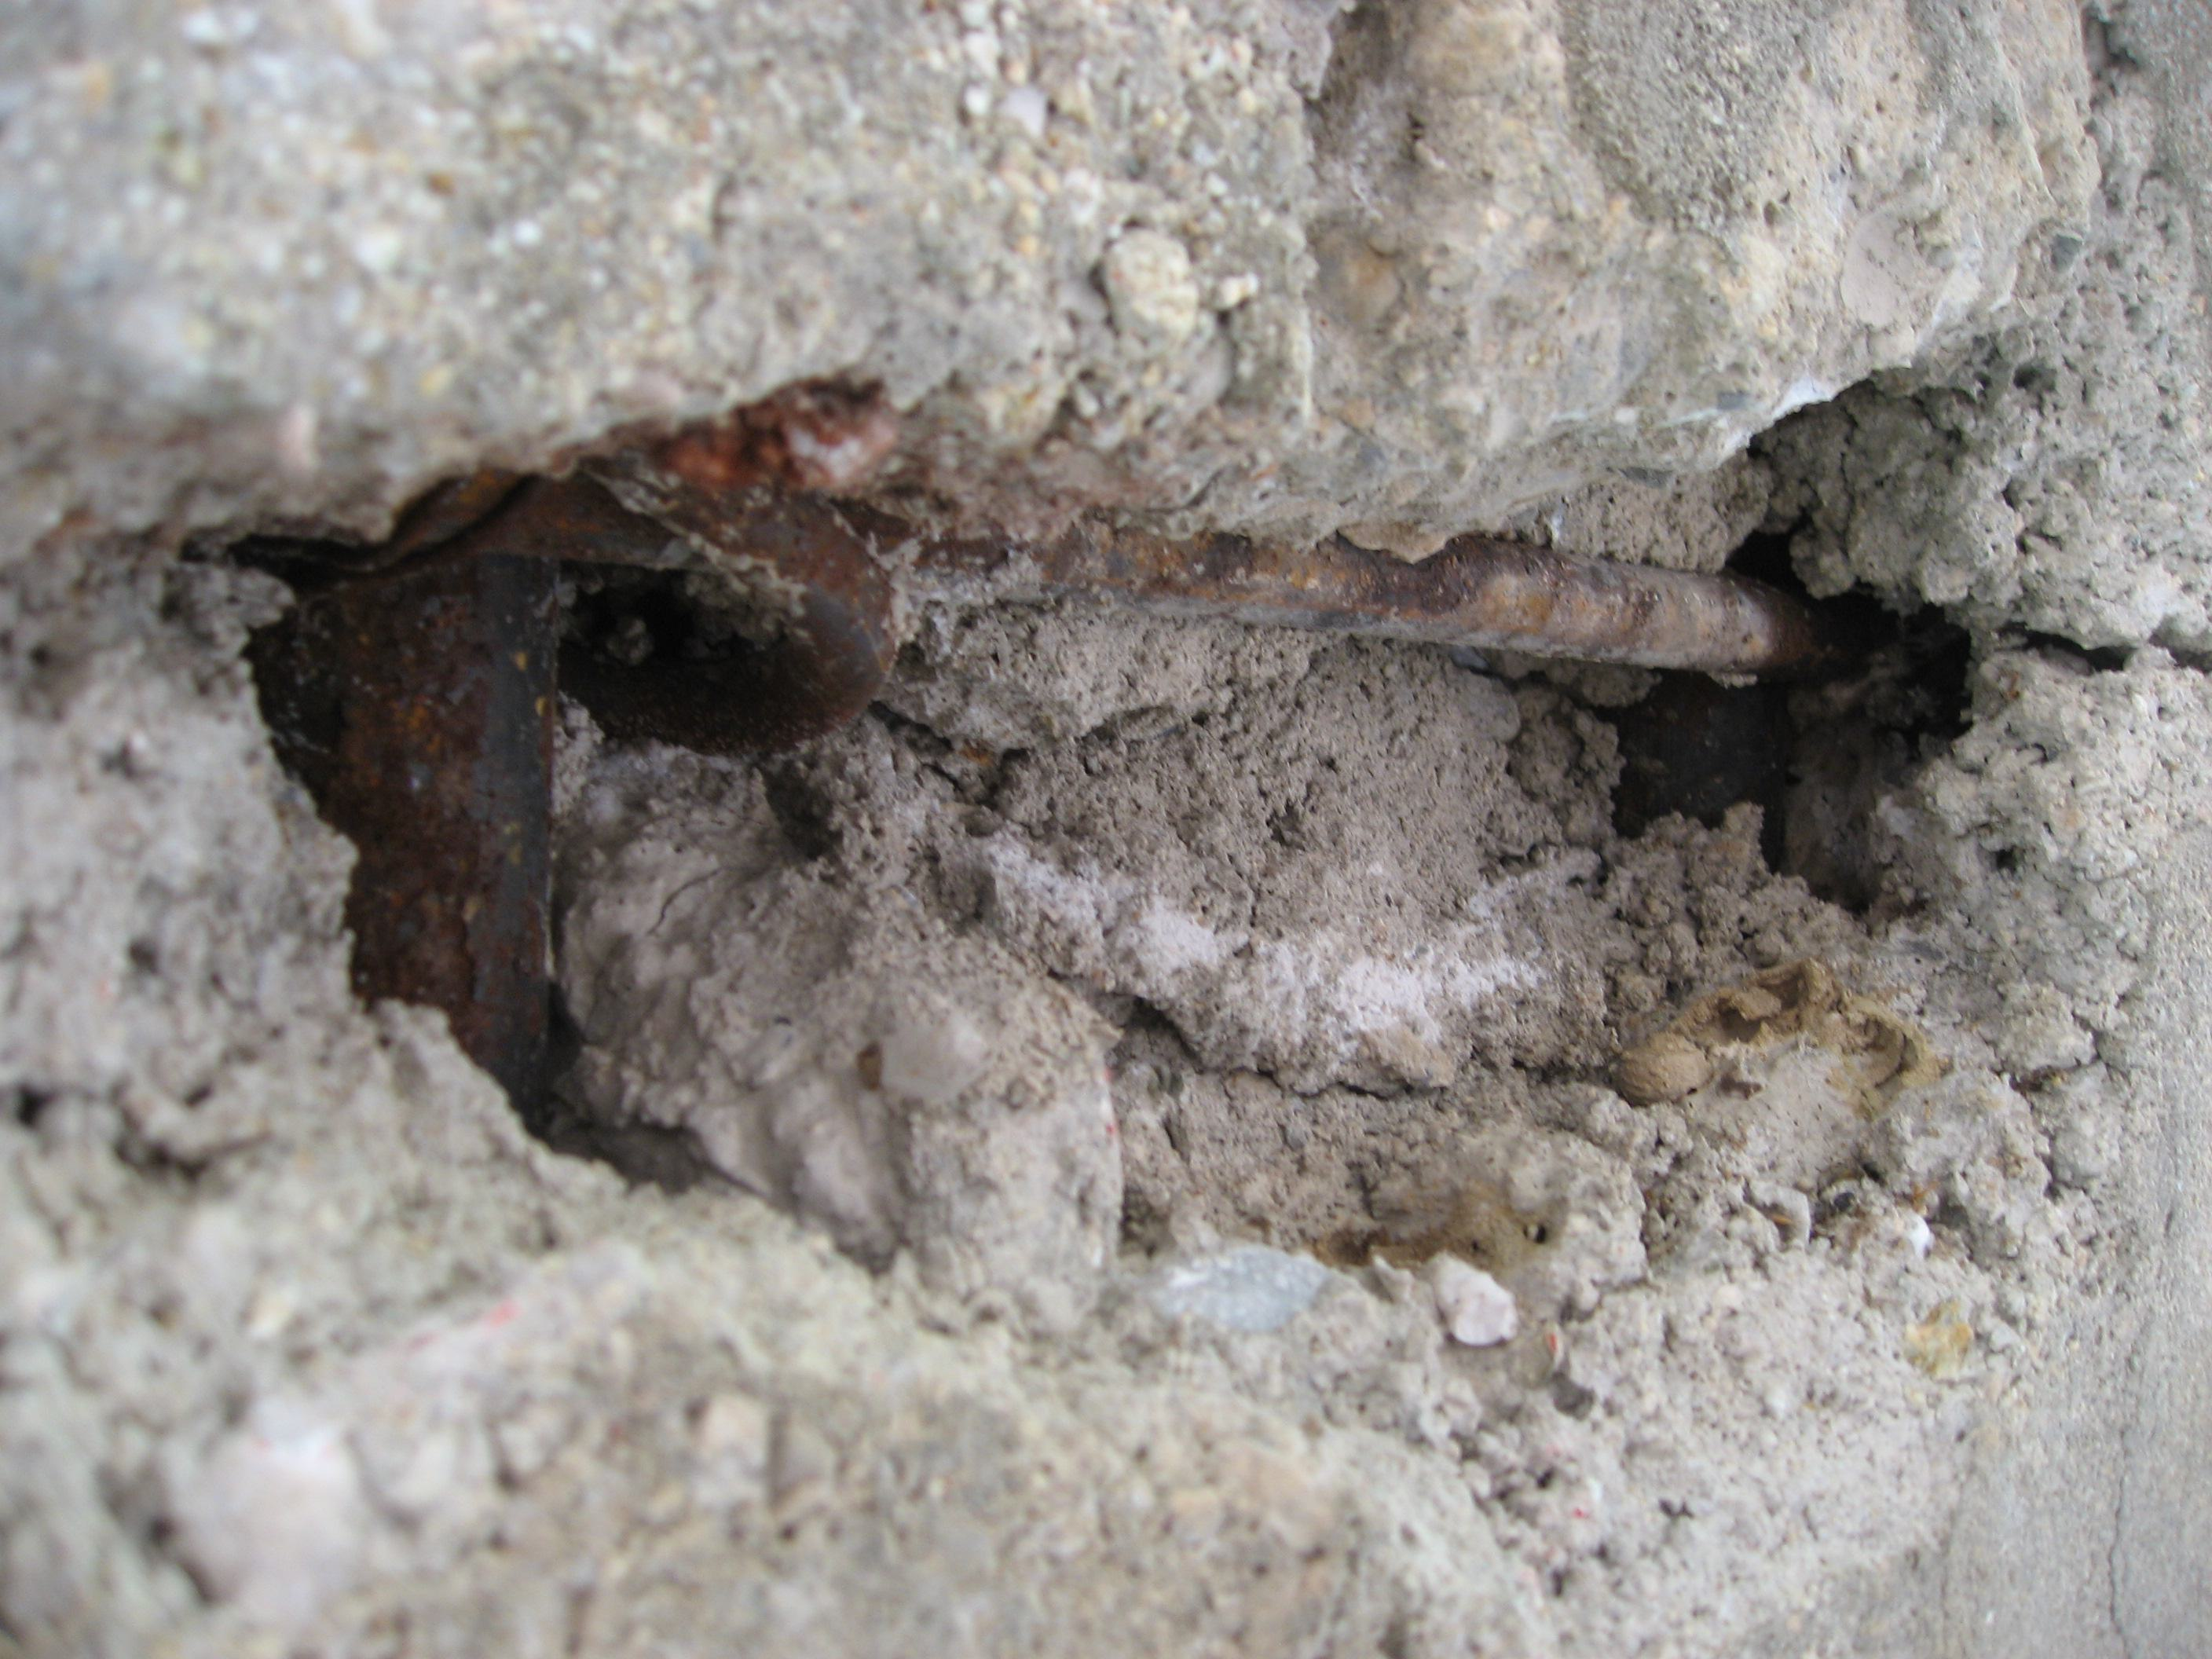Exposed reinforcement: (404, 418, 1883, 690), (303, 563, 568, 1087)
Spalling: (0, 310, 2212, 1659)
